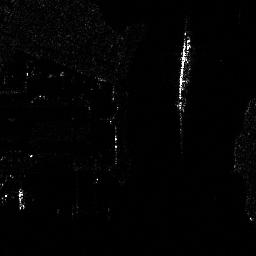ship: (176, 30, 190, 111), (17, 188, 26, 209)
